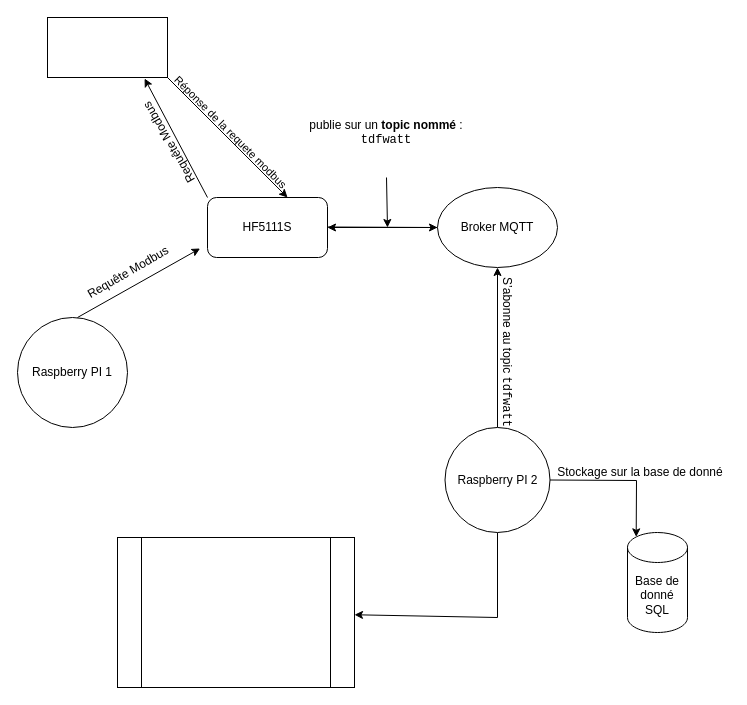
The diagram is 747 pixels wide and 705 high, and some of its shapes have lost their labels. The shapes that lost their labels are listed below. From the top down, each one's box as (x1, y1, x2, y2) in pixels, then its label:
(46, 16, 168, 78): Compteur
(116, 536, 354, 688): Thingsboards ou IHM QT6
